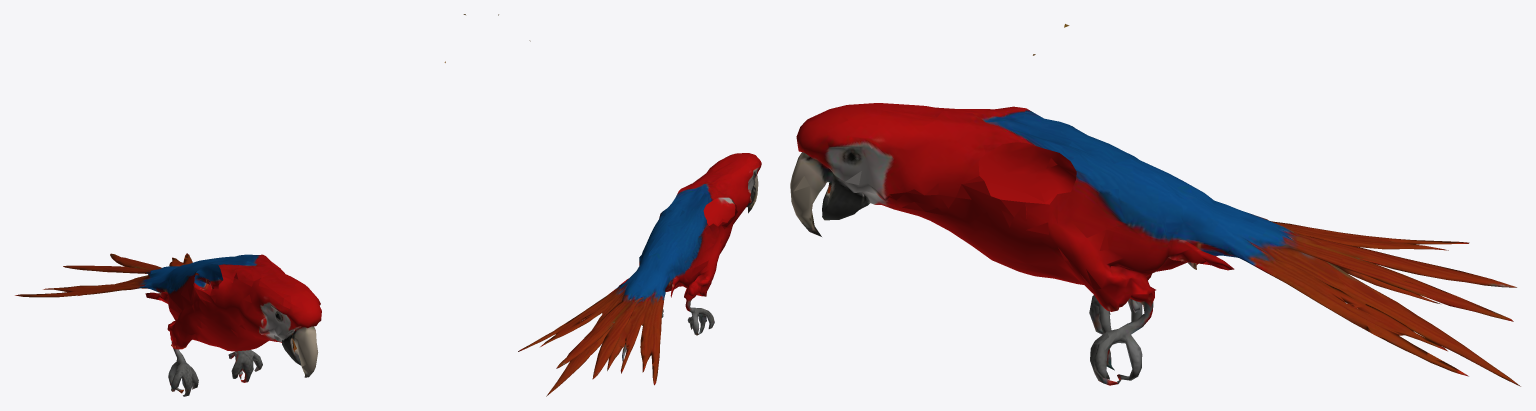
Rendered from cuerpoAve.obj.
3 renders of one model, left to right at view 1: azimuth 30°, elevation 25°; view 2: azimuth 150°, elevation 25°; view 3: azimuth 270°, elevation 25°, orthographic. The views are drawn at different scales.
Visible parts, largest first — view 1: cuerpoAve; view 2: cuerpoAve; view 3: cuerpoAve.
Part boxes in pixels (x1,y1,x2,y2): cuerpoAve: (15,14,465,396); cuerpoAve: (498,14,761,396); cuerpoAve: (790,24,1520,386).
Size of the model in its own units: 0.5855 by 0.566 by 0.7189.
1 material, 1 textured.
